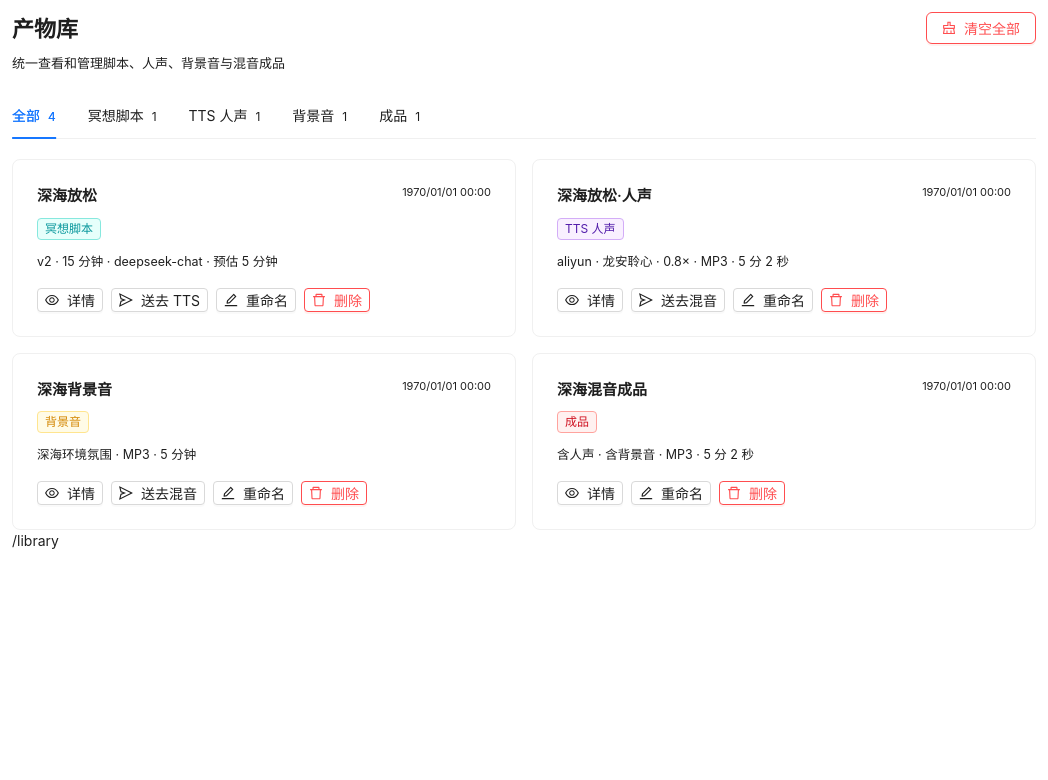
LibraryPage › renders all artifact types and filters the BGM tab
Check: the text "深海放松" is shown, box [37,184,97,208]
Check: the text "深海放松·人声" is shown, box [557,184,652,208]
Click the tab "背景音 1". click: coordinates (320, 116)
box: [292,105,347,127]
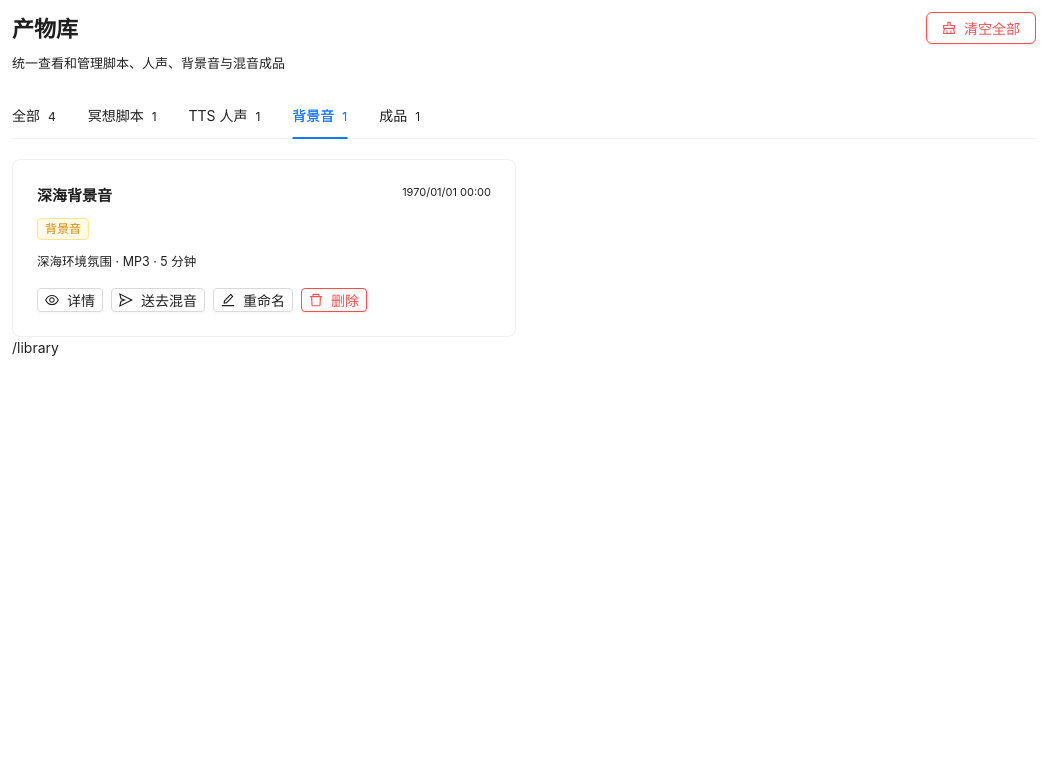
Check: the text "深海背景音" is shown, box [37,184,112,208]
Check: the text "深海放松·人声" is gone
